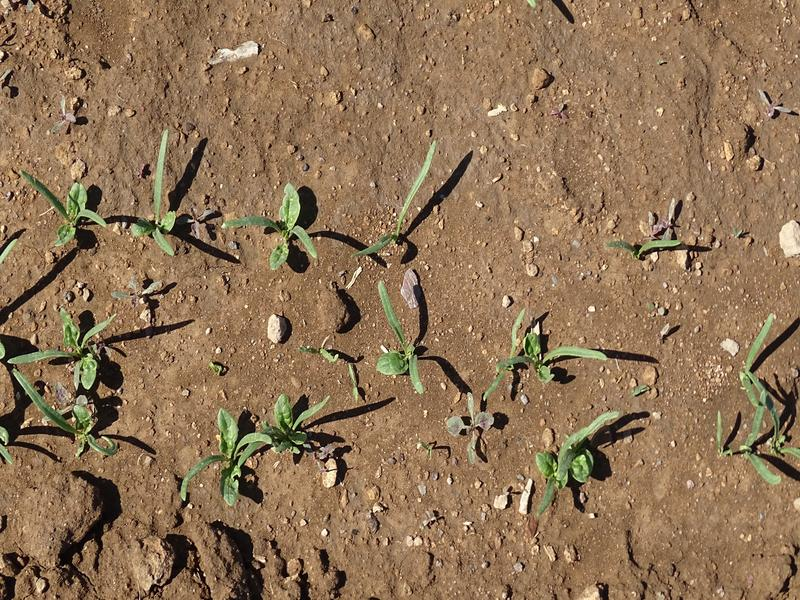Espinaca: (185, 389, 333, 508), (9, 305, 117, 458), (724, 318, 800, 483), (488, 309, 605, 400), (535, 410, 629, 511), (364, 145, 443, 261), (227, 187, 320, 278), (24, 171, 107, 250), (373, 280, 428, 391), (133, 149, 186, 249), (606, 240, 681, 269)
